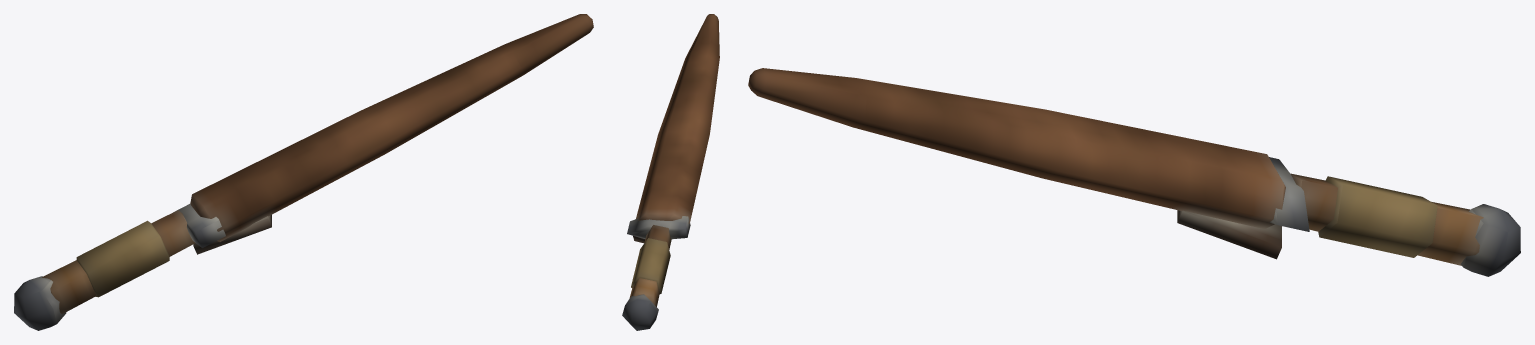
Rendered from Prop_Knife.fbx.
The picture shows the model from 3 angles, left to right: view 1: azimuth 90°, elevation 25°; view 2: azimuth 150°, elevation 25°; view 3: azimuth 270°, elevation 25°; orthographic projection. The views are drawn at different scales.
Parts seen in each view (by area): view 1: Prop_Knife; view 2: Prop_Knife; view 3: Prop_Knife.
Boxes of the visible parts, x1,y1,x2,y2 form: Prop_Knife: (14, 14, 593, 330); Prop_Knife: (622, 14, 719, 330); Prop_Knife: (748, 68, 1520, 276).
Size of the model in its own units: 0.084 by 0.0951 by 0.2159.
